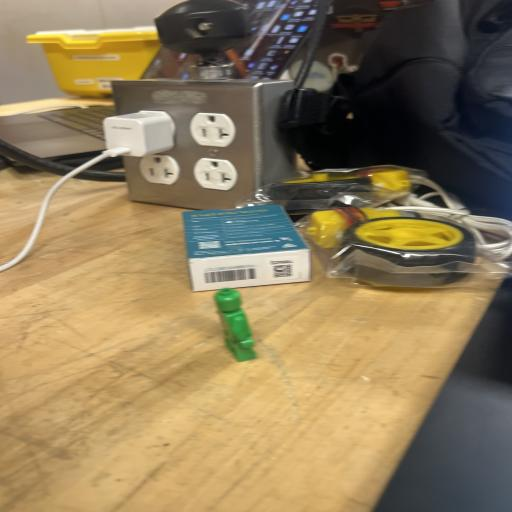green-lego-minifigure-detector: (214, 288, 257, 362)
